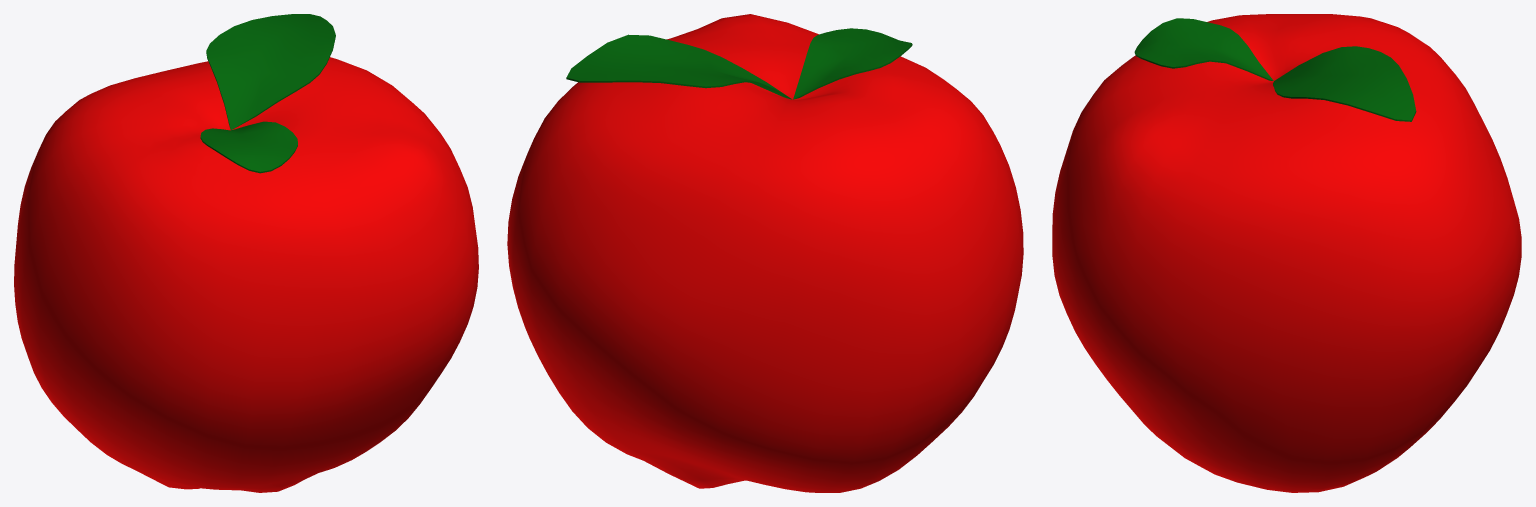
File: apple.fbx
3 views of the same model, side by side, from view 1: azimuth 30°, elevation 25°; view 2: azimuth 150°, elevation 25°; view 3: azimuth 270°, elevation 25° (orthographic). The views are drawn at different scales.
Visible parts, largest first — view 1: elma; view 2: elma; view 3: elma.
Boxes of the visible parts, x1,y1,x2,y2 form: elma: (14,14,478,492); elma: (507,14,1023,492); elma: (1052,14,1521,492).
Size of the model in its own units: 0.7324 by 0.684 by 0.7087.
